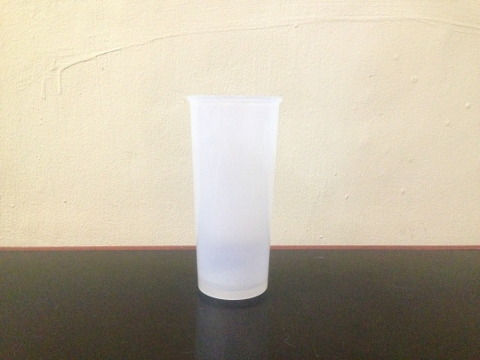tempat minum: (186, 94, 282, 302)
